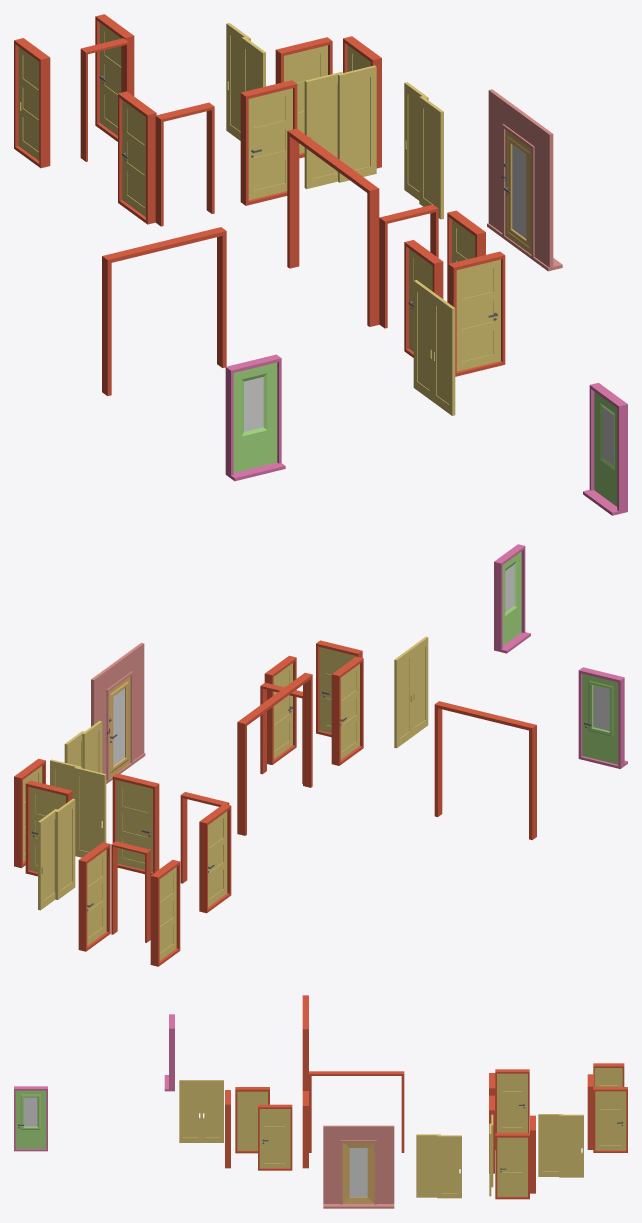
File: Doors.fbx
3 renders of one model, top to bottom at view 1: azimuth 30°, elevation 25°; view 2: azimuth 150°, elevation 25°; view 3: azimuth 270°, elevation 25°, orthographic. The views are drawn at different scales.
Parts seen in each view (by area): view 1: FrontDoorFrame, Door.014, DoorFrame.011, BackDoor2, Door.010, Door, DoorFrame.012, Door.001, FrontDoor, Door.003, DoorFrame.010, Door.015 (+24 smaller); view 2: FrontDoorFrame, BackDoor2, DoorFrame.011, Door.010, DoorFrame.012, Door.001, FrontDoor, Door.004, DoorFrame.010, Door.016, DoorFrame, Door.011 (+23 smaller); view 3: FrontDoorFrame, FrontDoor, Door.009, Door.013, BackDoor1, Door.011, Door.006, Door.005, Door.002, Door.016, Door.015, Door.003 (+17 smaller).
Boxes of the visible parts, x1=… form: FrontDoorFrame: x1=487, y1=89, x2=562, y2=271; Door.014: x1=456, y1=259, x2=500, y2=371; DoorFrame.011: x1=287, y1=128, x2=379, y2=326; BackDoor2: x1=233, y1=362, x2=277, y2=472; Door.010: x1=248, y1=88, x2=292, y2=200; Door: x1=338, y1=65, x2=376, y2=182; DoorFrame.012: x1=102, y1=227, x2=226, y2=396; Door.001: x1=304, y1=71, x2=342, y2=189; FrontDoor: x1=502, y1=130, x2=531, y2=254; Door.003: x1=419, y1=96, x2=443, y2=219; DoorFrame.010: x1=583, y1=383, x2=627, y2=515; Door.015: x1=433, y1=294, x2=455, y2=415; FrontDoorFrame: x1=91, y1=642, x2=145, y2=783; BackDoor2: x1=582, y1=673, x2=618, y2=764; DoorFrame.011: x1=237, y1=672, x2=312, y2=835; Door.010: x1=116, y1=780, x2=152, y2=872; DoorFrame.012: x1=434, y1=701, x2=536, y2=840; Door.001: x1=74, y1=767, x2=106, y2=857; FrontDoor: x1=108, y1=676, x2=130, y2=778; Door.004: x1=55, y1=798, x2=75, y2=899; DoorFrame.010: x1=494, y1=544, x2=530, y2=653; Door.016: x1=394, y1=648, x2=412, y2=748; DoorFrame: x1=78, y1=842, x2=110, y2=951; Door.011: x1=208, y1=811, x2=227, y2=907; FrontDoorFrame: x1=323, y1=1125, x2=394, y2=1208; FrontDoor: x1=342, y1=1142, x2=374, y2=1203; Door.009: x1=595, y1=1091, x2=626, y2=1150; Door.013: x1=259, y1=1109, x2=290, y2=1167; BackDoor1: x1=15, y1=1090, x2=46, y2=1148; Door.011: x1=497, y1=1073, x2=527, y2=1132; Door.006: x1=497, y1=1137, x2=527, y2=1196; Door.005: x1=559, y1=1114, x2=583, y2=1177; Door.002: x1=437, y1=1135, x2=461, y2=1198; Door.016: x1=201, y1=1080, x2=223, y2=1142; Door.015: x1=179, y1=1080, x2=201, y2=1142; Door.003: x1=416, y1=1134, x2=440, y2=1197.
Size of the model in its own units: 991 by 273 by 1920.
